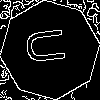U: (25, 25, 75, 67)
